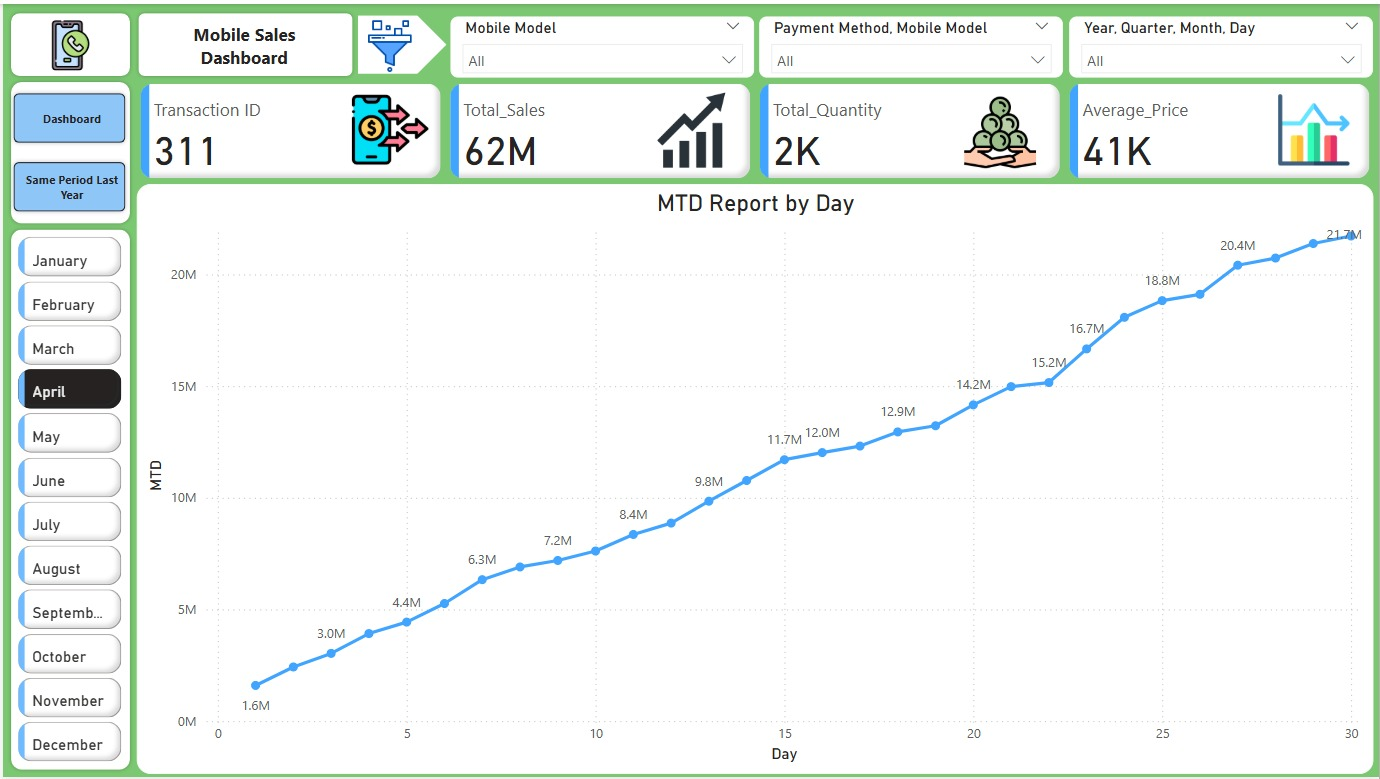

What the dashboard file says about the page in this screenshot:
{"tool":"powerbi","page":{"name":"MTD Report","canvas":[1280,720],"ordinal":1},"visuals":[{"type":"shape","box":[3.5,4.7,118.6,66.3],"z":0},{"type":"shape","box":[3.5,68.6,118.6,139.5],"z":1000},{"type":"image","box":[34.9,10.5,55.8,55.8],"z":2000},{"type":"shape","box":[3.5,205.8,118.6,510.5],"z":3000},{"type":"advancedSlicerVisual","fields":{"Values":["Custom_Calendar.Date.Variation.Date Hierarchy.Month"]},"box":[9.3,211.8,107,508.1],"z":4000},{"type":"shape","box":[122.1,4.7,207,66.3],"z":5000},{"type":"textbox","box":[160.5,11.6,127.9,53.5],"z":6000},{"type":"shape","box":[330.2,10.5,82.6,54.7],"z":7000},{"type":"image","box":[330.2,0,59.3,79.1],"z":8000},{"type":"slicer","fields":{"Values":["Sales_Data.Mobile Model"]},"box":[416.3,11.6,282.6,57],"z":9000},{"type":"slicer","fields":{"Values":["Sales_Data.Payment Method","Sales_Data.Mobile Model"]},"box":[703.5,11.6,282.6,57],"z":10000},{"type":"slicer","fields":{"Values":["Custom_Calendar.Date.Variation.Date Hierarchy.Year","Custom_Calendar.Date.Variation.Date Hierarchy.Quarter","Custom_Calendar.Date.Variation.Date Hierarchy.Month","Custom_Calendar.Date.Variation.Date Hierarchy.Day"]},"box":[991.9,11.6,282.6,57],"z":11000},{"type":"cardVisual","fields":{"Data":["CountNonNull(Sales_Data.Transaction ID)","Sales_Data.Total_Sales","Sales_Data.Total_Quantity","Sales_Data.Average_Price"]},"box":[123.3,70.9,1157,96.5],"z":12000},{"type":"image","box":[887.5,78.8,81.2,81.2],"z":13000},{"type":"image","box":[320,71.2,81.2,92.5],"z":14000},{"type":"image","box":[1181.2,78.8,76.2,76.2],"z":15000},{"type":"image","box":[593.8,71.2,92.5,92.5],"z":16000},{"type":"lineChart","title":"MTD Report by Day","fields":{"Category":["Custom_Calendar.Date.Variation.Date Hierarchy.Day"],"Y":["Sales_Data.MTD"]},"box":[124.4,167.4,1150,548.8],"z":17000},{"type":"pageNavigator","box":[5.8,79.1,112.8,118.6],"z":18000}]}

Visuals, with their boxes in screenshot pixels (x1, y1, x2, y2), scaled from the page's 1280x720 canvas onto the 1380x779 screenshot:
shape: [x1=4, y1=5, x2=132, y2=77]
shape: [x1=4, y1=74, x2=132, y2=225]
image: [x1=38, y1=11, x2=98, y2=72]
shape: [x1=4, y1=223, x2=132, y2=775]
advancedSlicerVisual - Custom_Calendar.Date.Variation.Date Hierarchy.Month: [x1=10, y1=229, x2=125, y2=778]
shape: [x1=132, y1=5, x2=355, y2=77]
textbox: [x1=173, y1=13, x2=311, y2=70]
shape: [x1=356, y1=11, x2=445, y2=71]
image: [x1=356, y1=0, x2=420, y2=86]
slicer - Sales_Data.Mobile Model: [x1=449, y1=13, x2=754, y2=74]
slicer - Sales_Data.Payment Method x Sales_Data.Mobile Model: [x1=758, y1=13, x2=1063, y2=74]
slicer - Custom_Calendar.Date.Variation.Date Hierarchy.Year x Custom_Calendar.Date.Variation.Date Hierarchy.Quarter: [x1=1069, y1=13, x2=1374, y2=74]
cardVisual - CountNonNull(Sales_Data.Transaction ID) x Sales_Data.Total_Sales: [x1=133, y1=77, x2=1379, y2=181]
image: [x1=957, y1=85, x2=1044, y2=173]
image: [x1=345, y1=77, x2=433, y2=177]
image: [x1=1273, y1=85, x2=1356, y2=168]
image: [x1=640, y1=77, x2=740, y2=177]
"MTD Report by Day" lineChart: [x1=134, y1=181, x2=1374, y2=775]
pageNavigator: [x1=6, y1=86, x2=128, y2=214]
